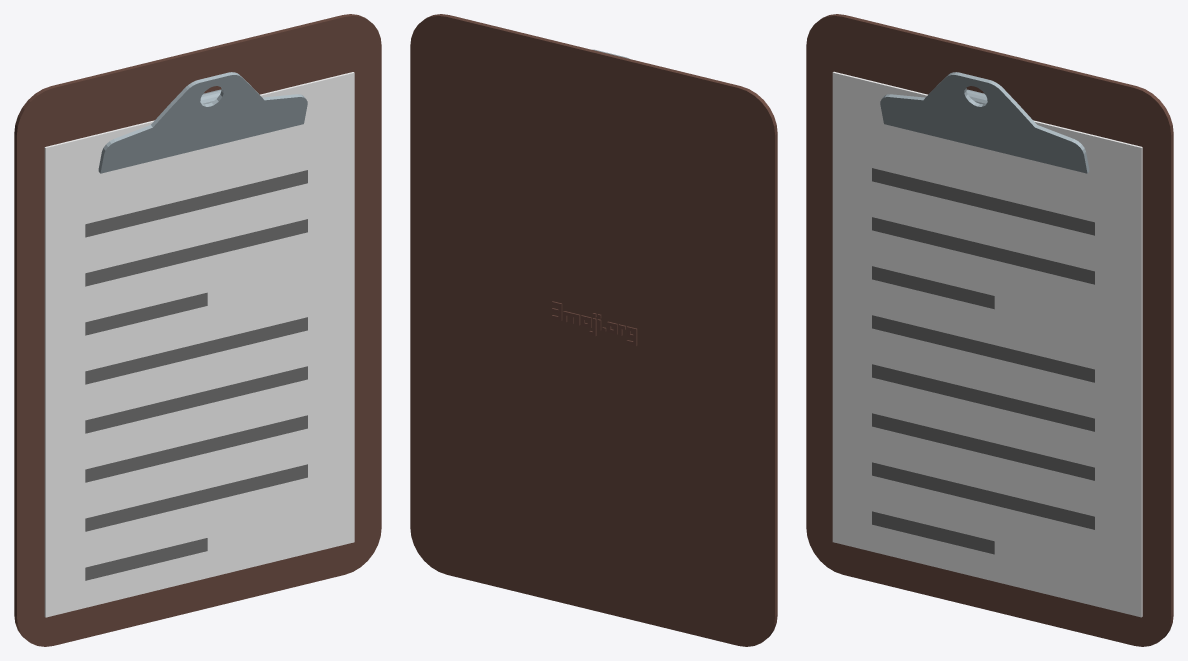
File: clipboard.fbx
The picture shows the model from 3 angles, left to right: view 1: azimuth 30°, elevation 25°; view 2: azimuth 150°, elevation 25°; view 3: azimuth 330°, elevation 25°; orthographic projection.
Parts seen in each view (by area): view 1: Cube.982; view 2: Cube.982; view 3: Cube.982.
Boxes of the visible parts, x1=… form: Cube.982: x1=14, y1=14, x2=381, y2=646; Cube.982: x1=410, y1=14, x2=777, y2=646; Cube.982: x1=806, y1=14, x2=1173, y2=646.
Bounding box in the file's own units: 161 × 235 × 14.85.
Materials: 1 (1 with a texture image).
